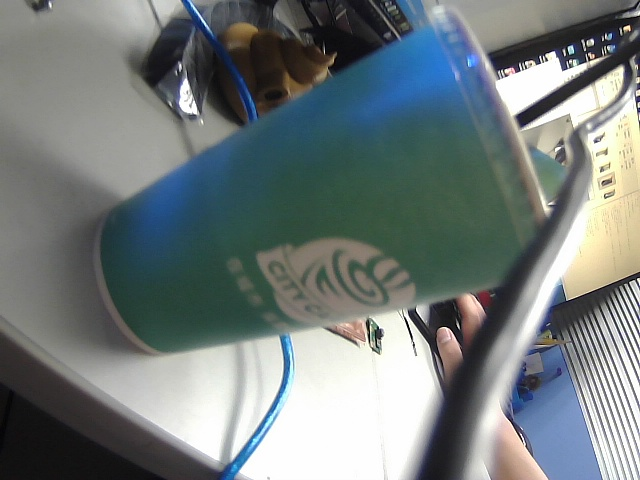beverage: (84, 2, 640, 365)
